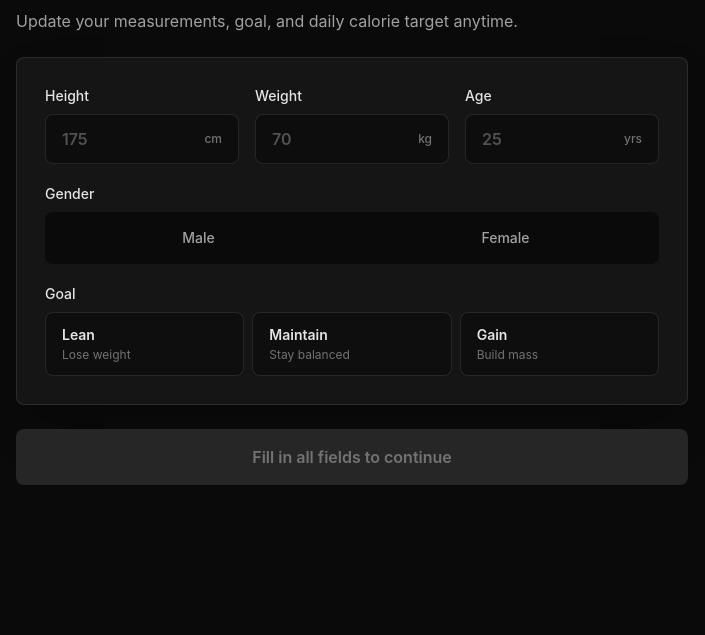
it: BMIPage › keeps submit disabled until all fields are filled
Type "180" into the number field labelled "Height cm" at (129, 139), box [62,127,196,151]
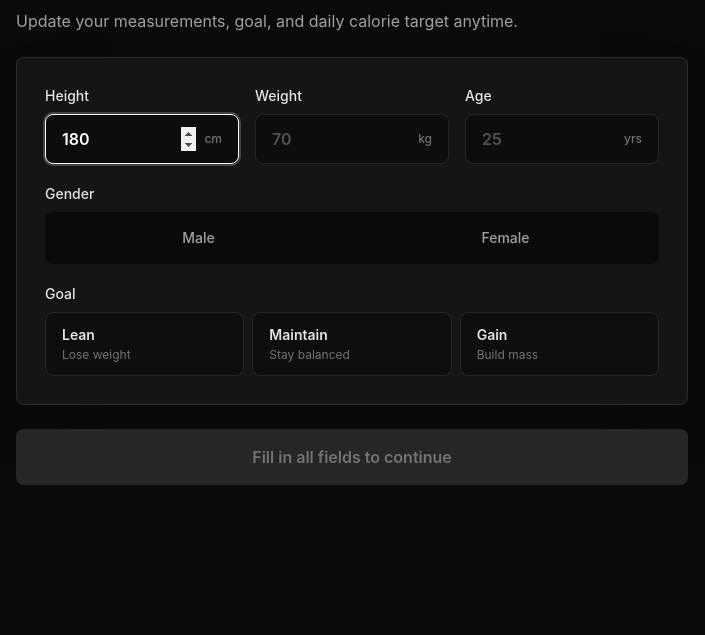
Type "80" into the number field labelled "Weight kg" at (341, 139), box [272,127,410,151]
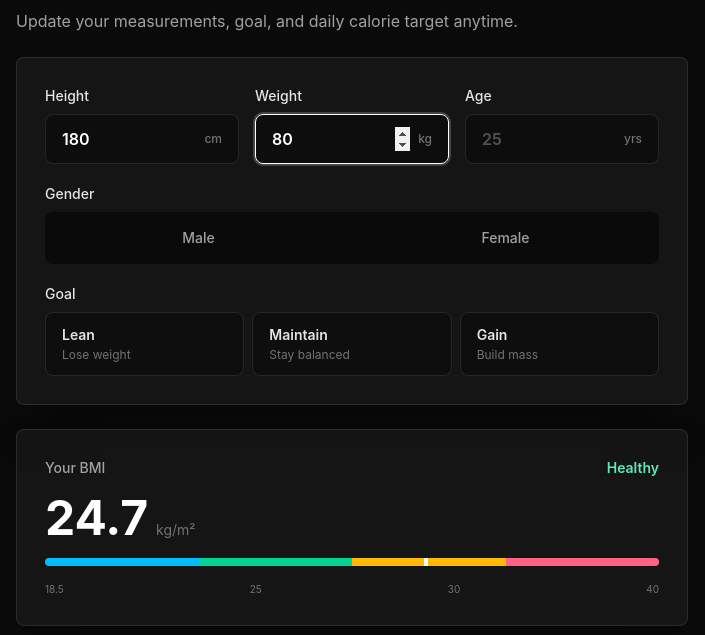
Type "30" into the number field labelled "Age yrs" at (549, 139), box [482,127,616,151]
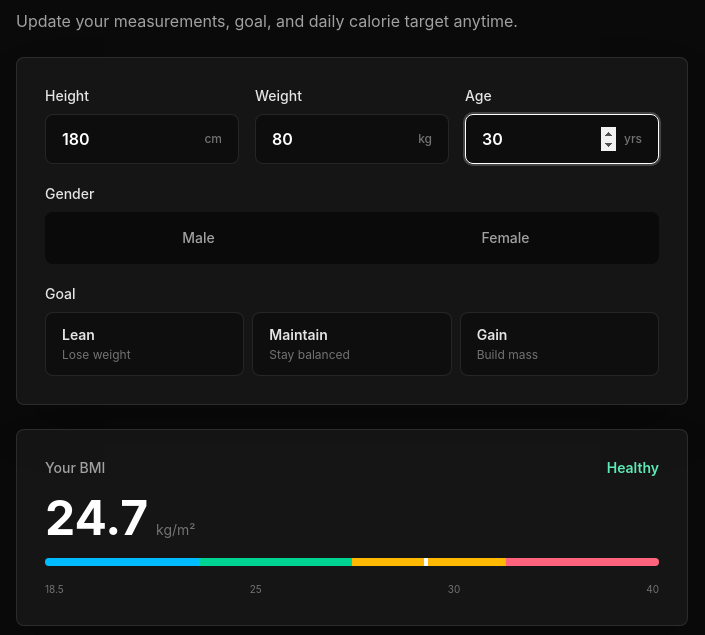
Click the button "Male" at (198, 238), box [49,216,348,260]
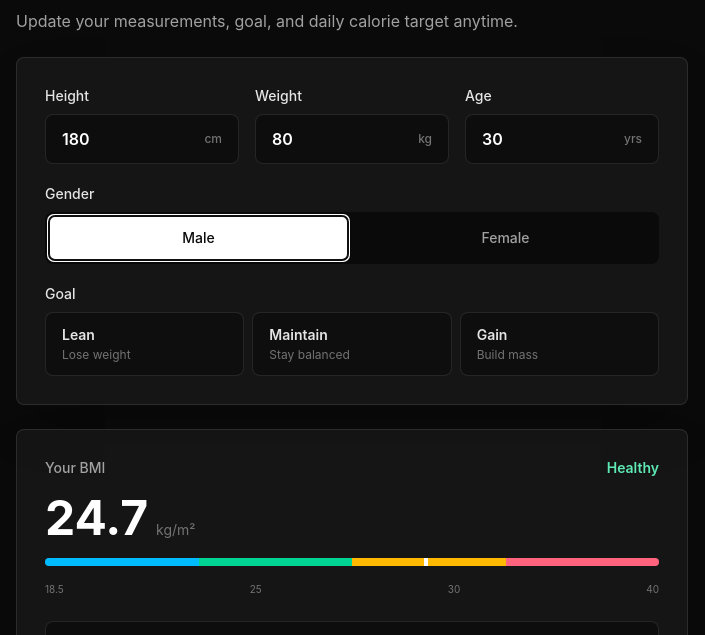
Click the button "Lean Lose weight" at (145, 344), box [45,312,244,376]
(page scrolled)
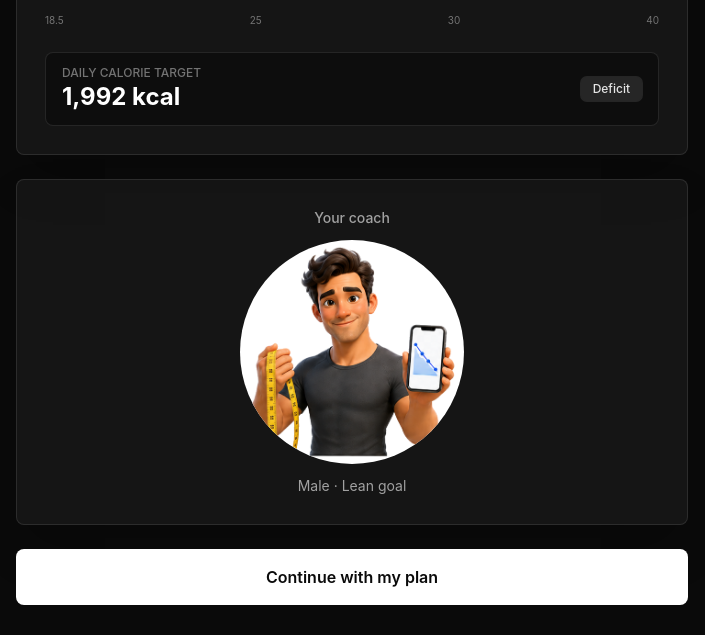
expect the button "Continue with my plan" is enabled: met, box [16,549,688,605]
